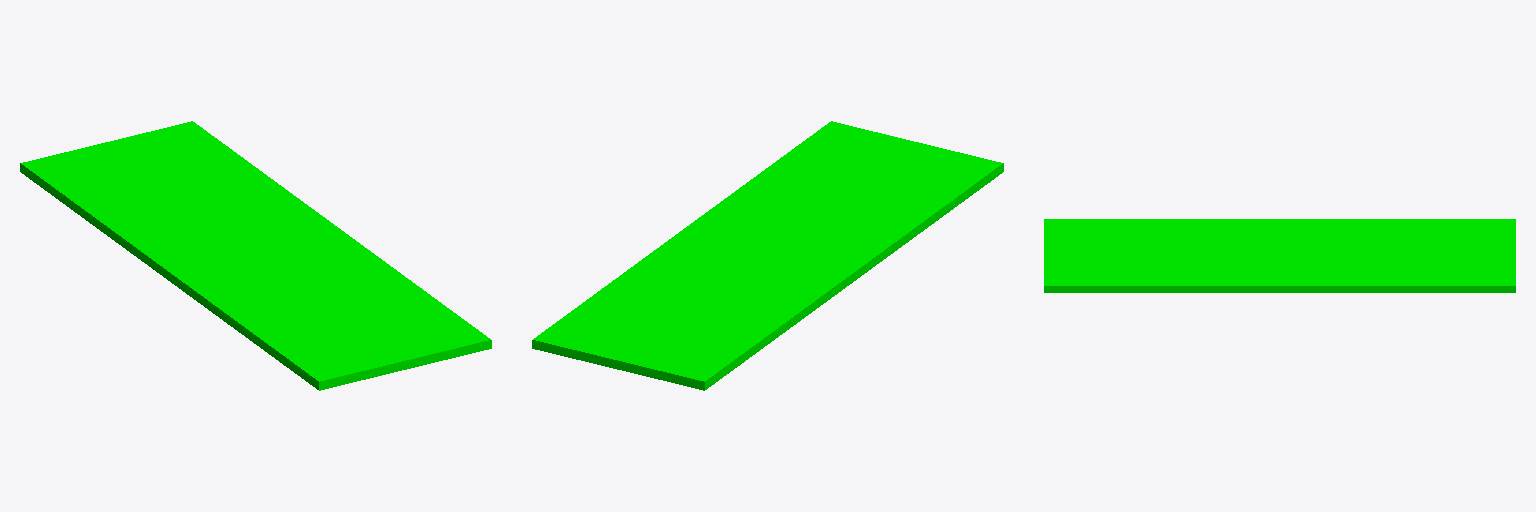
URDF robot description (goal):
<?xml version="1.0" ?>
<robot name="goal">
    <link name="finish">
        <visual>
            <origin xyz="20 0 0" rpy="0 0 0"/>
            <geometry>
                <box size="1 3 0.05"/>  
            </geometry>
            <material name="green">
                <color rgba="0 1 0 1"/>
            </material>
        </visual>
    </link>
</robot>

--- Facts derived from the render (not from the file) ---
3 views of the same robot in one strip: view 1: azimuth 30°, elevation 25°; view 2: azimuth 150°, elevation 25°; view 3: azimuth 270°, elevation 25° (orthographic).
Robot: goal — 1 links, 0 joints (none); root link finish; default pose: every joint at zero.
Visible links, largest first — view 1: finish; view 2: finish; view 3: finish.
Link boxes in pixels (x1=…): finish: x1=20, y1=121, x2=491, y2=390; finish: x1=532, y1=121, x2=1003, y2=390; finish: x1=1044, y1=219, x2=1515, y2=292.
Size in the robot's own frame: 1 by 3 by 0.05 metres.
Geometry: primitives only (box / cylinder / sphere), no mesh files.